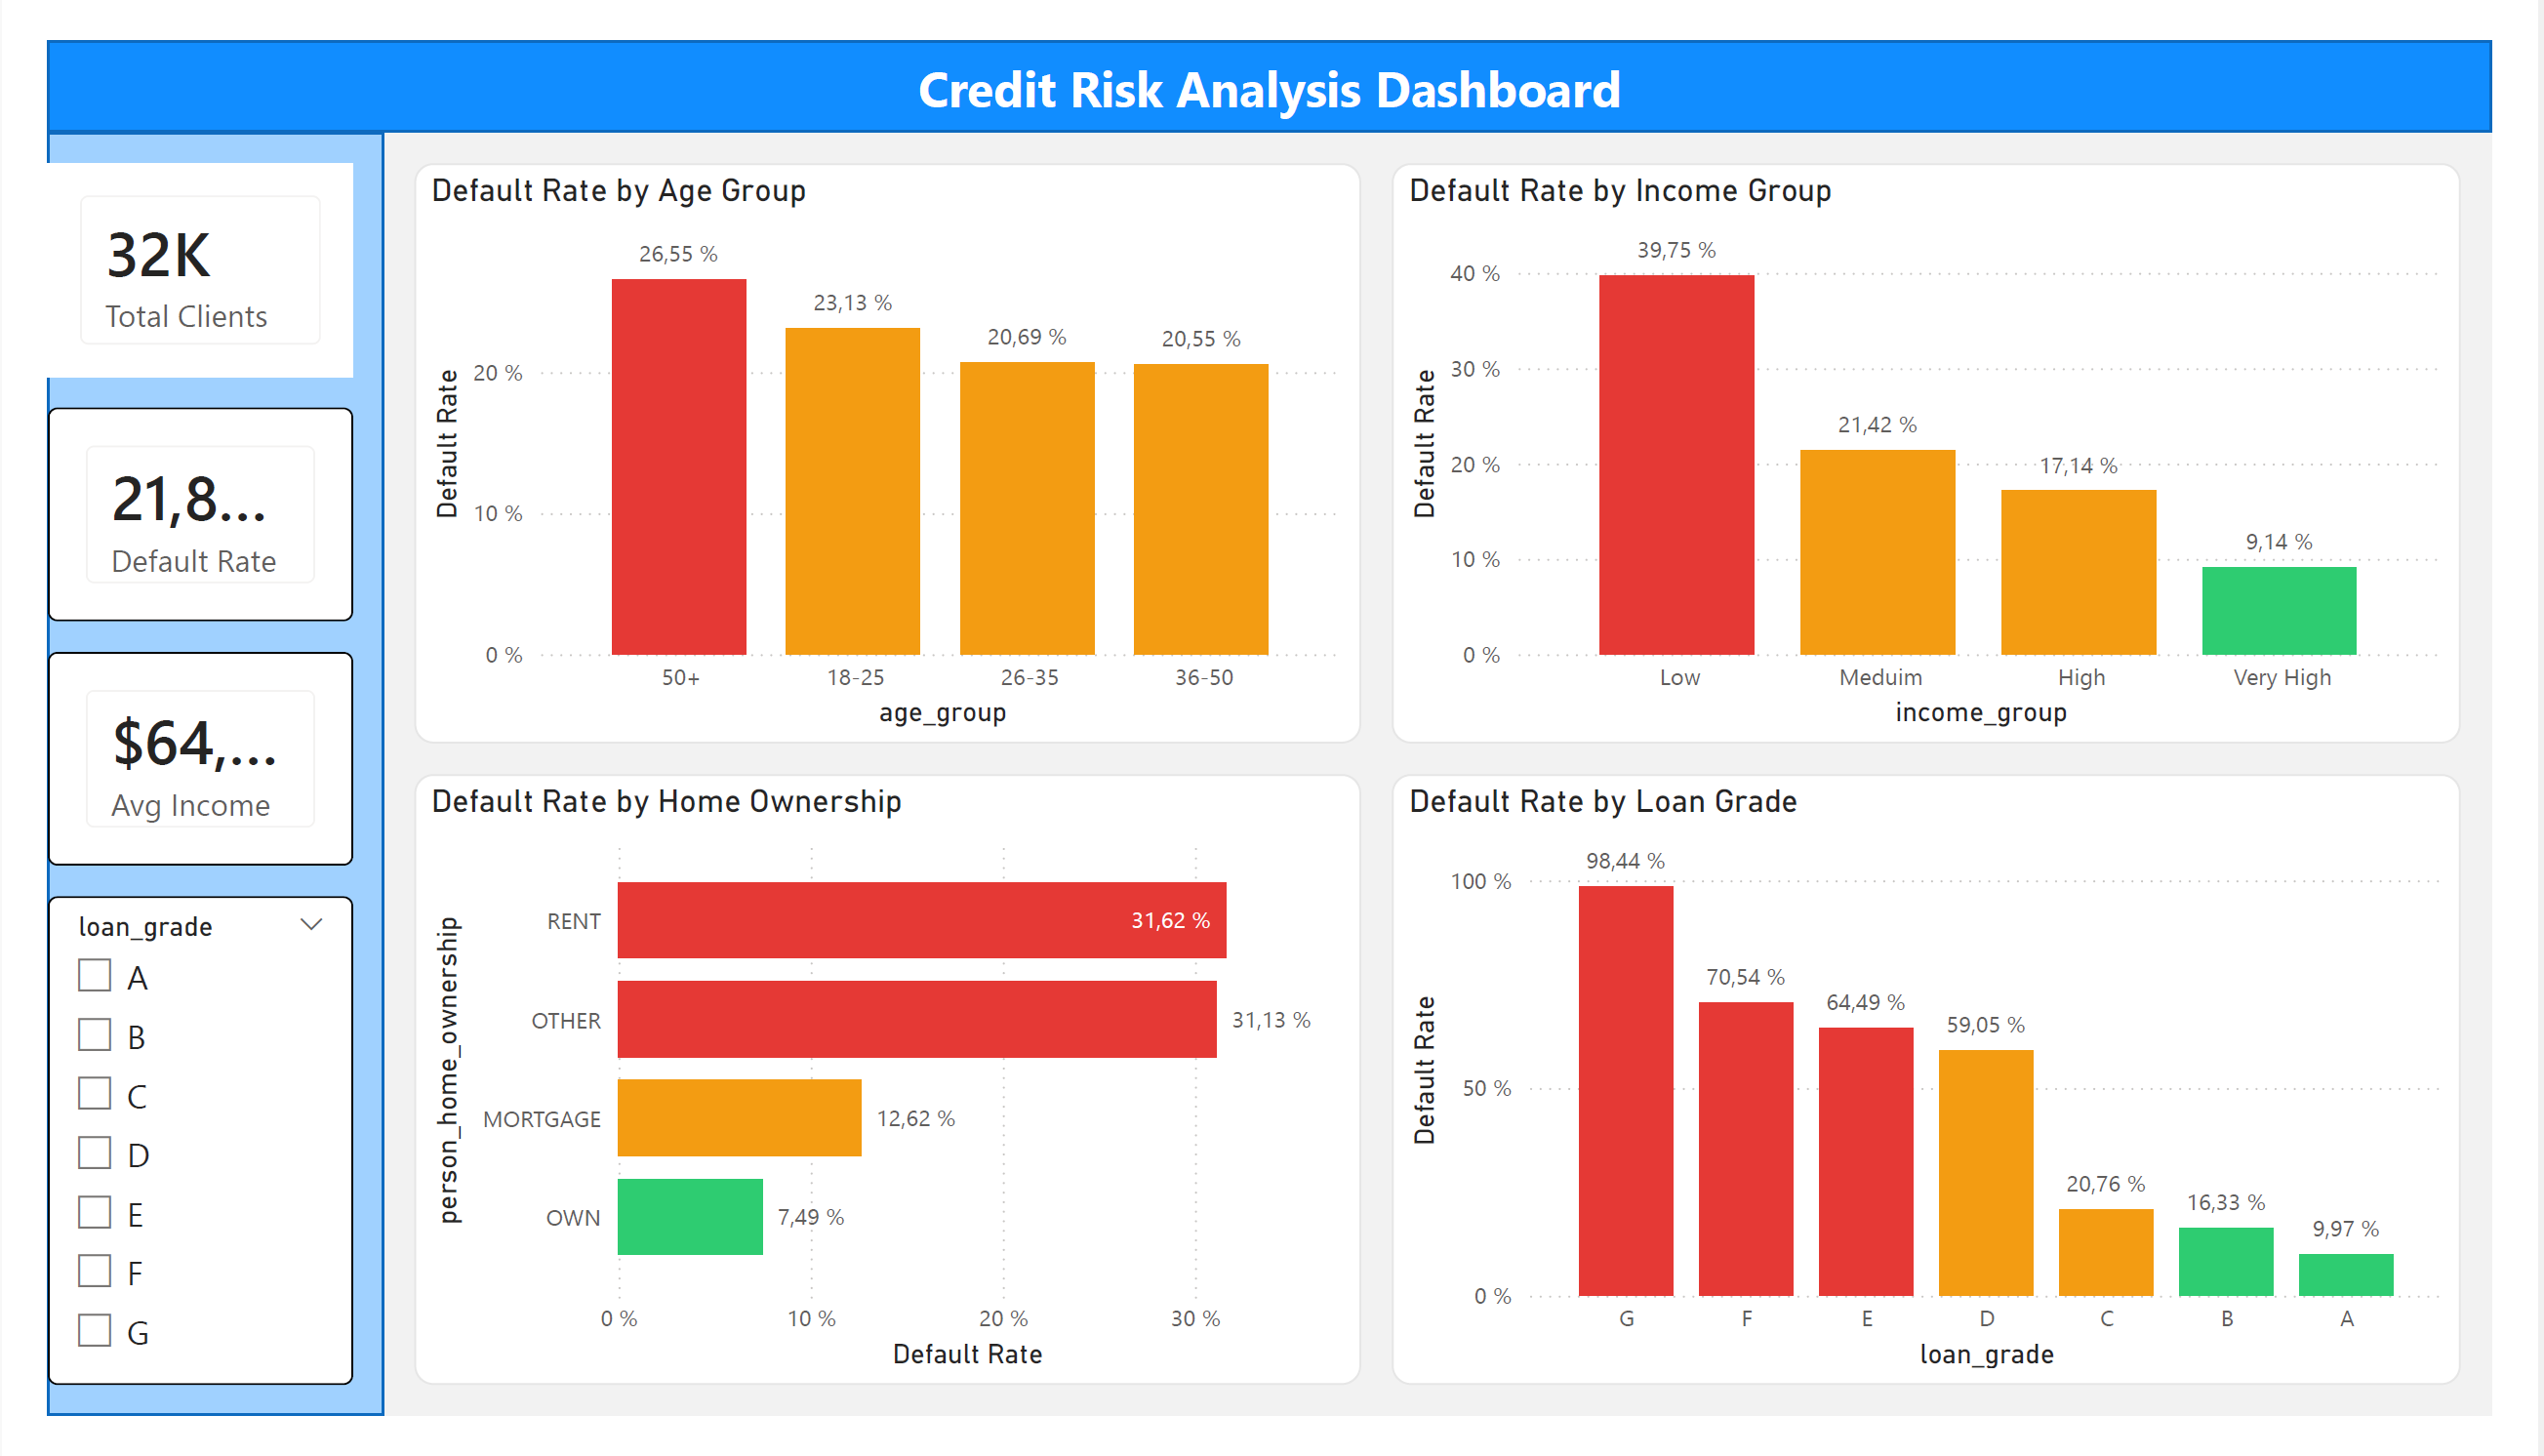

This screenshot's page, from the dashboard's own definition file:
{"tool":"powerbi","page":{"name":"Page 1","canvas":[1280,720],"ordinal":0},"visuals":[{"type":"shape","box":[0,0,1280,48],"z":0},{"type":"shape","box":[0,48,176,672],"z":1000},{"type":"columnChart","title":"Default Rate by Income Group","fields":{"Category":["clean_credit_risk.income_group"],"Y":["clean_credit_risk.Default Rate"]},"box":[704,64,560,304],"z":2000},{"type":"clusteredBarChart","title":"Default Rate by  Home Ownership","fields":{"Category":["clean_credit_risk.person_home_ownership"],"Y":["clean_credit_risk.Default Rate"]},"box":[192,384,496,320],"z":3000},{"type":"columnChart","title":"Default Rate by Age Group","fields":{"Category":["clean_credit_risk.age_group"],"Y":["clean_credit_risk.Default Rate"]},"box":[192,64,496,304],"z":4000},{"type":"columnChart","title":"Default Rate by Loan Grade","fields":{"Y":["clean_credit_risk.Default Rate"],"Category":["clean_credit_risk.loan_grade"]},"box":[704,384,560,320],"z":5000},{"type":"cardVisual","fields":{"Data":["clean_credit_risk.Total Clients"]},"box":[0,64,160,112],"z":6000},{"type":"cardVisual","fields":{"Data":["clean_credit_risk.Default Rate"]},"box":[0,192,160,112],"z":7000},{"type":"cardVisual","fields":{"Data":["clean_credit_risk.Avg Income"]},"box":[0,320,160,112],"z":9000},{"type":"slicer","fields":{"Values":["clean_credit_risk.loan_grade"]},"box":[0,448,160,256],"z":9001}]}

Visuals, with their boxes in screenshot pixels (x1, y1, x2, y2), scaled from the page's 1280x720 canvas onto the 2544x1456 screenshot:
shape: bbox(0, 0, 2543, 97)
shape: bbox(0, 97, 349, 1455)
"Default Rate by Income Group" columnChart: bbox(1399, 130, 2512, 745)
"Default Rate by  Home Ownership" clusteredBarChart: bbox(382, 777, 1367, 1424)
"Default Rate by Age Group" columnChart: bbox(382, 130, 1367, 745)
"Default Rate by Loan Grade" columnChart: bbox(1399, 777, 2512, 1424)
cardVisual - clean_credit_risk.Total Clients: bbox(0, 130, 318, 356)
cardVisual - clean_credit_risk.Default Rate: bbox(0, 388, 318, 615)
cardVisual - clean_credit_risk.Avg Income: bbox(0, 647, 318, 873)
slicer - clean_credit_risk.loan_grade: bbox(0, 906, 318, 1424)
